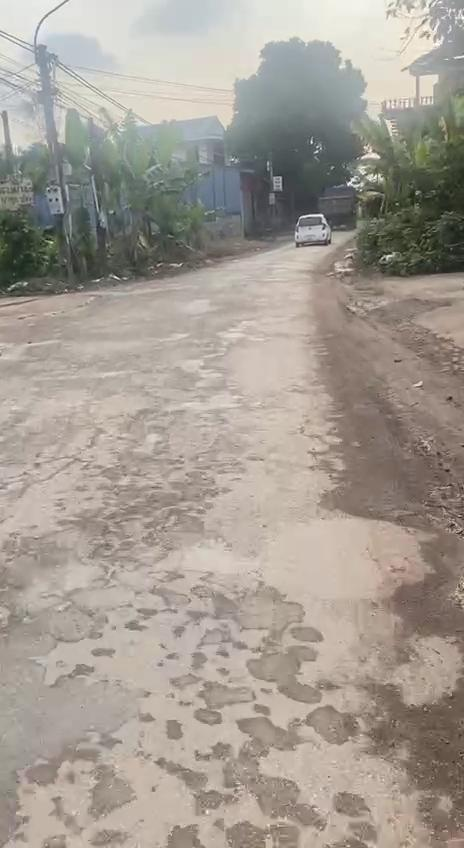pothole: (364, 676, 464, 846)
